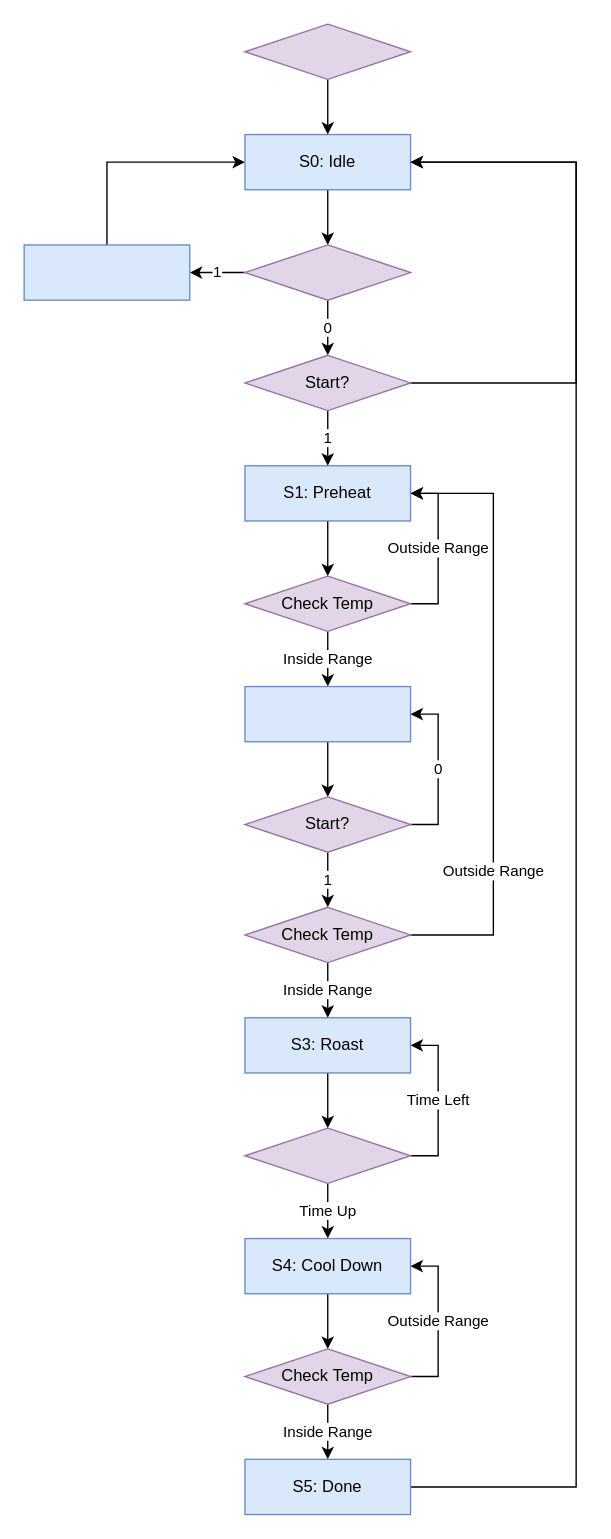
This 611x1539 diagram has some shape labels left out. Each missing label, with the centre of its shape:
Check Time: pixel 327 1155
Load Profile?: pixel 327 272
Power-on-Reset: pixel 327 51
S2: Ready to Roast: pixel 327 713
S6: Update Roast Profile: pixel 106 272
